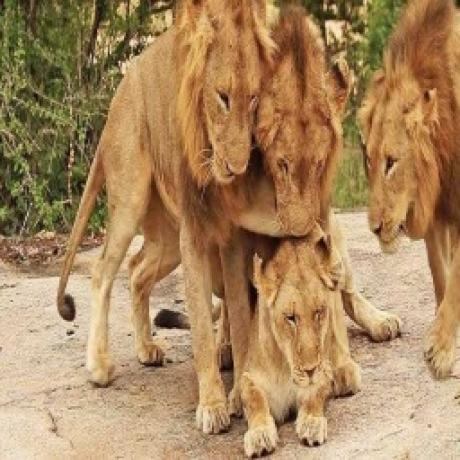Lion: (54, 0, 273, 435), (357, 0, 460, 385), (252, 0, 354, 241), (241, 235, 336, 460)
